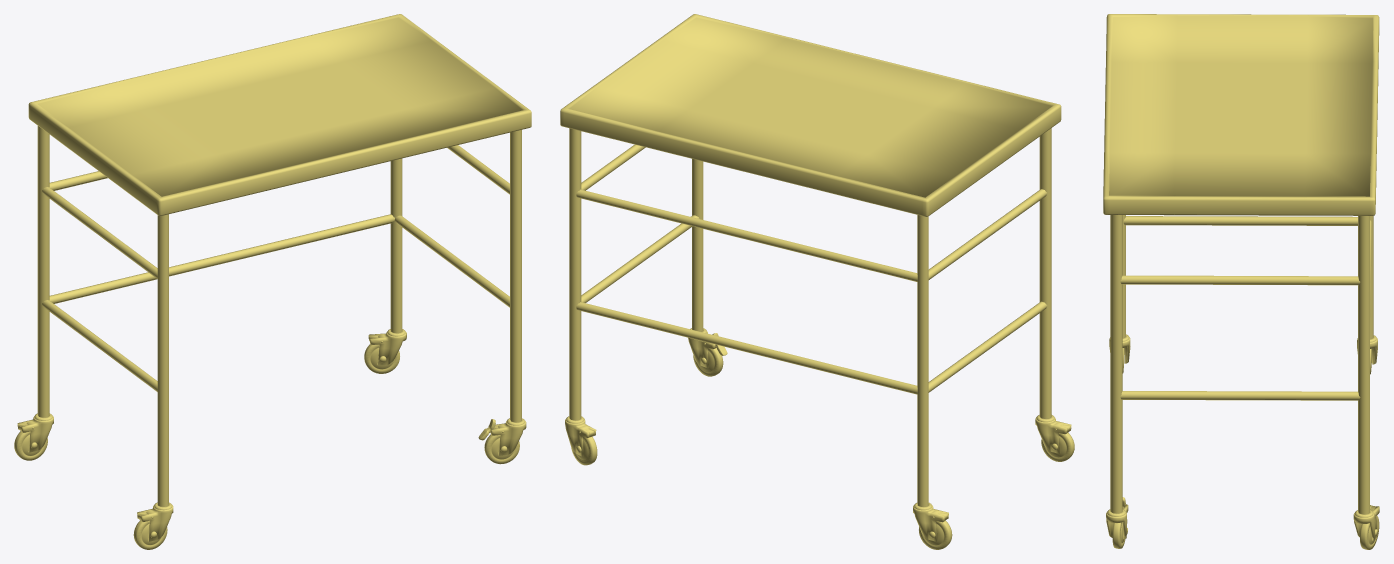
Rendered from Medium_Troly.fbx.
The picture shows the model from 3 angles, left to right: view 1: azimuth 30°, elevation 25°; view 2: azimuth 150°, elevation 25°; view 3: azimuth 270°, elevation 25°; orthographic projection. The views are drawn at different scales.
Parts seen in each view (by area): view 1: Meduim_toly; view 2: Meduim_toly; view 3: Meduim_toly.
Boxes of the visible parts, x1,y1,x2,y2 form: Meduim_toly: (14,14,531,549); Meduim_toly: (560,14,1074,549); Meduim_toly: (1103,14,1379,549).
Size of the model in its own units: 504 by 434 by 302.
